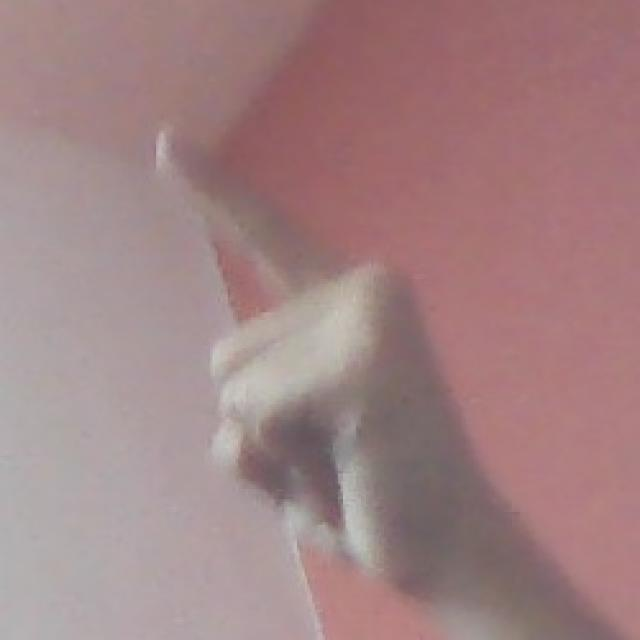Alphabet-I: (143, 113, 486, 605)
